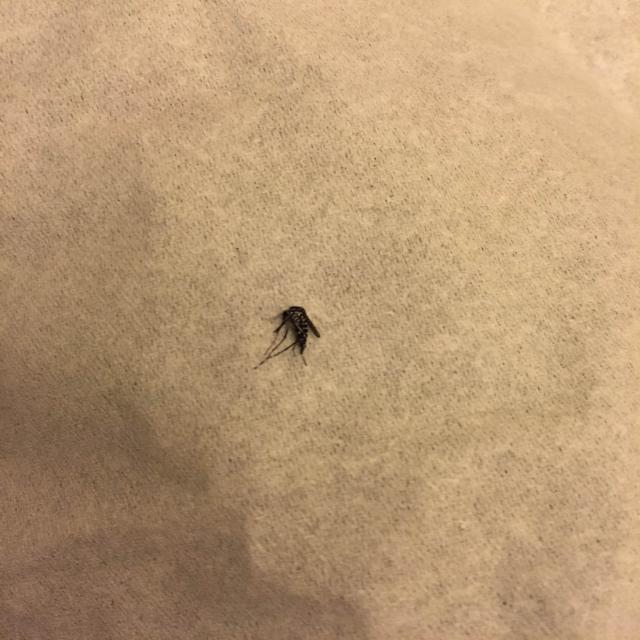albopictus: (247, 304, 329, 374)
